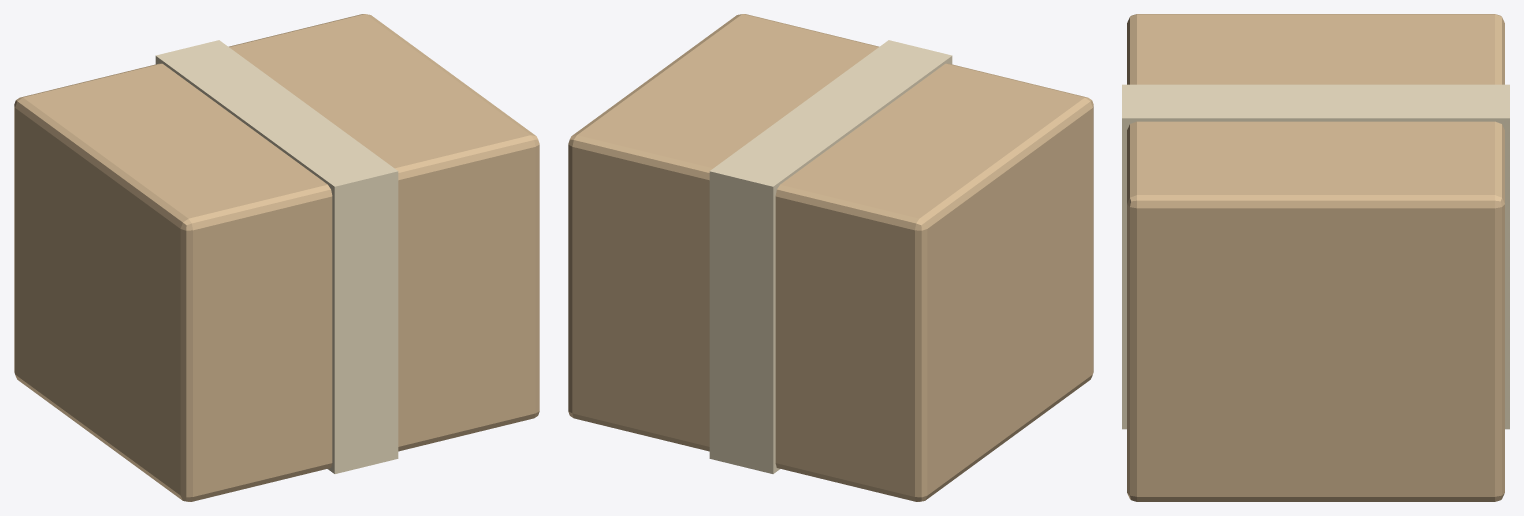
Rendered from CajaCarton.fbx.
3 renders of one model, left to right at view 1: azimuth 30°, elevation 25°; view 2: azimuth 150°, elevation 25°; view 3: azimuth 270°, elevation 25°, orthographic. The views are drawn at different scales.
Visible parts, largest first — view 1: Cuerpo; view 2: Cuerpo; view 3: Cuerpo.
Boxes of the visible parts, left/top/right/bottom form: Cuerpo: left=14, top=14, right=539, bottom=501; Cuerpo: left=568, top=14, right=1093, bottom=501; Cuerpo: left=1122, top=14, right=1509, bottom=501.
Size of the model in its own units: 0.45 by 0.345 by 0.39.
